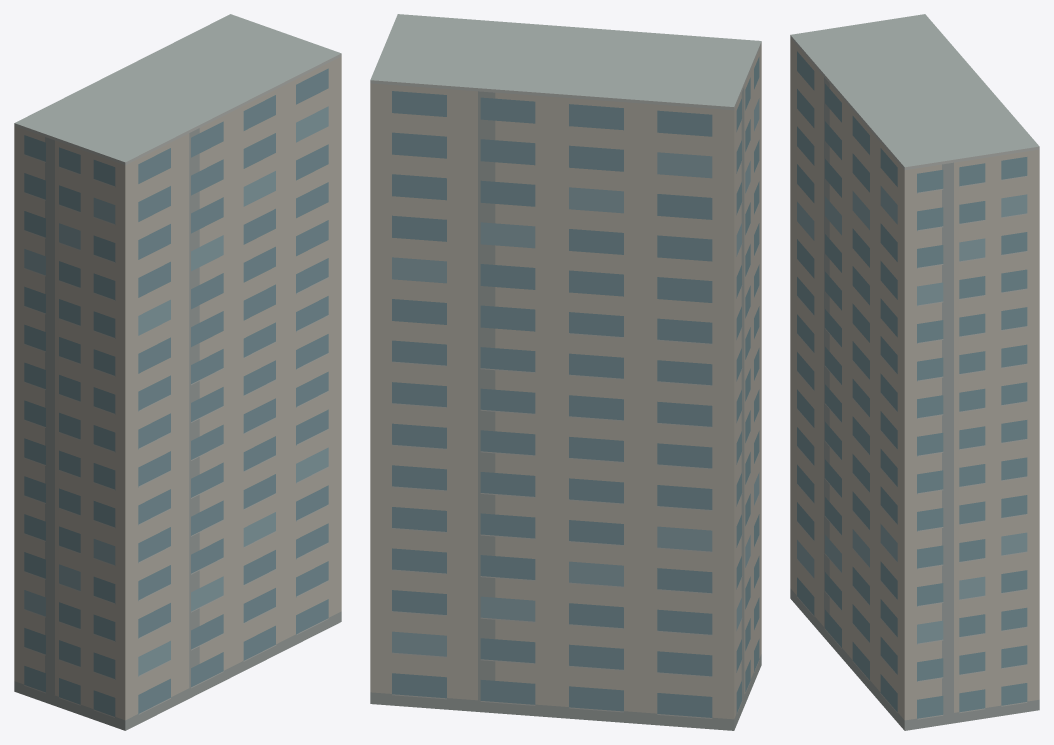
The model's file is residential-e14c7139-70d0-49c2-9e15-4fed274cf642.glb.
3 renders of one model, left to right at view 1: azimuth 30°, elevation 25°; view 2: azimuth 150°, elevation 25°; view 3: azimuth 270°, elevation 25°, orthographic. The views are drawn at different scales.
Parts seen in each view (by area): view 1: residential-e14c7139-70d0-49c2-9e15-4fed274cf642.tmp; view 2: residential-e14c7139-70d0-49c2-9e15-4fed274cf642.tmp; view 3: residential-e14c7139-70d0-49c2-9e15-4fed274cf642.tmp.
Boxes of the visible parts, left/top/right/bottom form: residential-e14c7139-70d0-49c2-9e15-4fed274cf642.tmp: left=14, top=14, right=341, bottom=730; residential-e14c7139-70d0-49c2-9e15-4fed274cf642.tmp: left=370, top=14, right=761, bottom=730; residential-e14c7139-70d0-49c2-9e15-4fed274cf642.tmp: left=790, top=14, right=1039, bottom=730.
Bounding box in the file's own units: 27.43 × 47 × 18.86.
